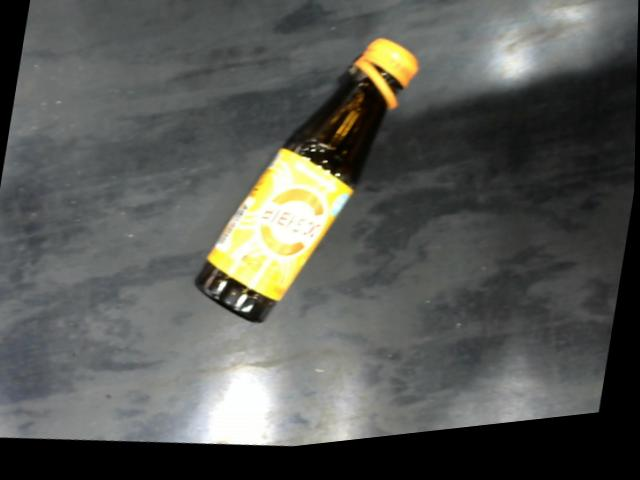glass: (195, 40, 432, 334)
